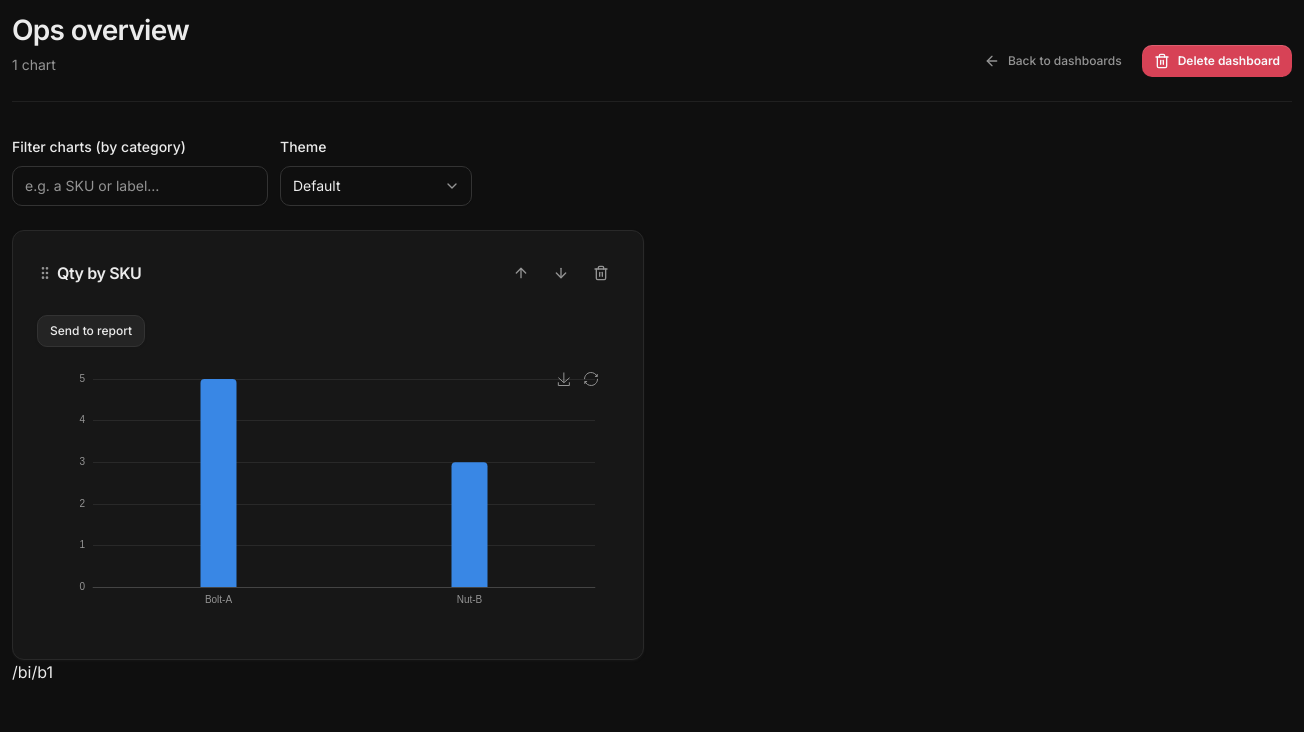
DashboardDetail › shows a remove failure
The image size is (1304, 732).
Click the button titled "Remove from dashboard" at (601, 273), box top-left (583, 255), bottom-right (619, 291)
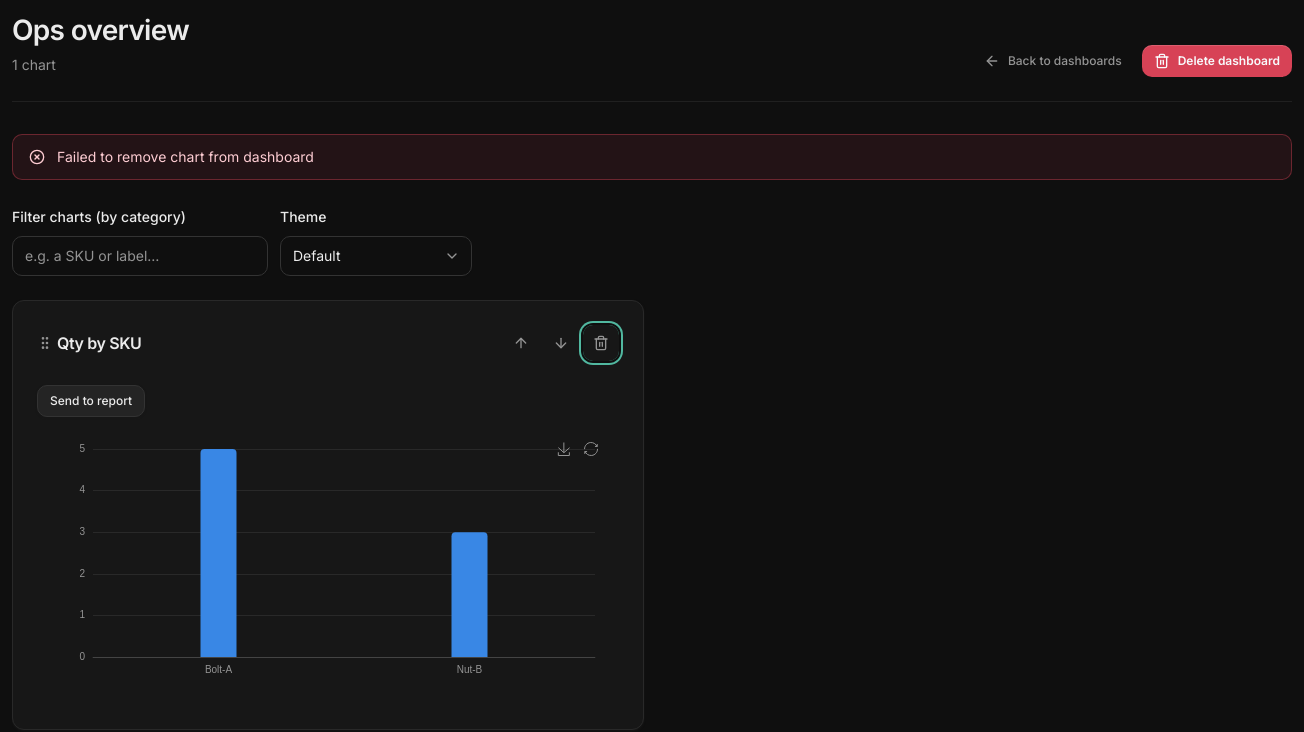
Expected: the text "Failed to remove chart from dashboard" is shown, top-left (57, 147), bottom-right (314, 167)
